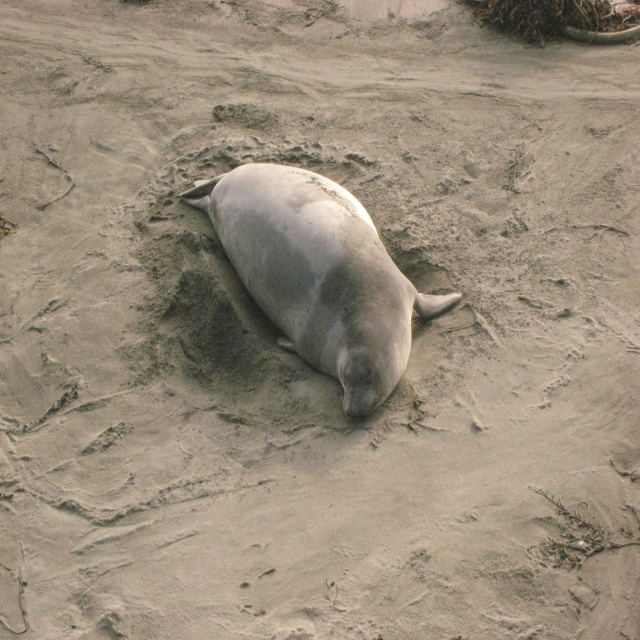Sea lion: (184, 166, 465, 416)
